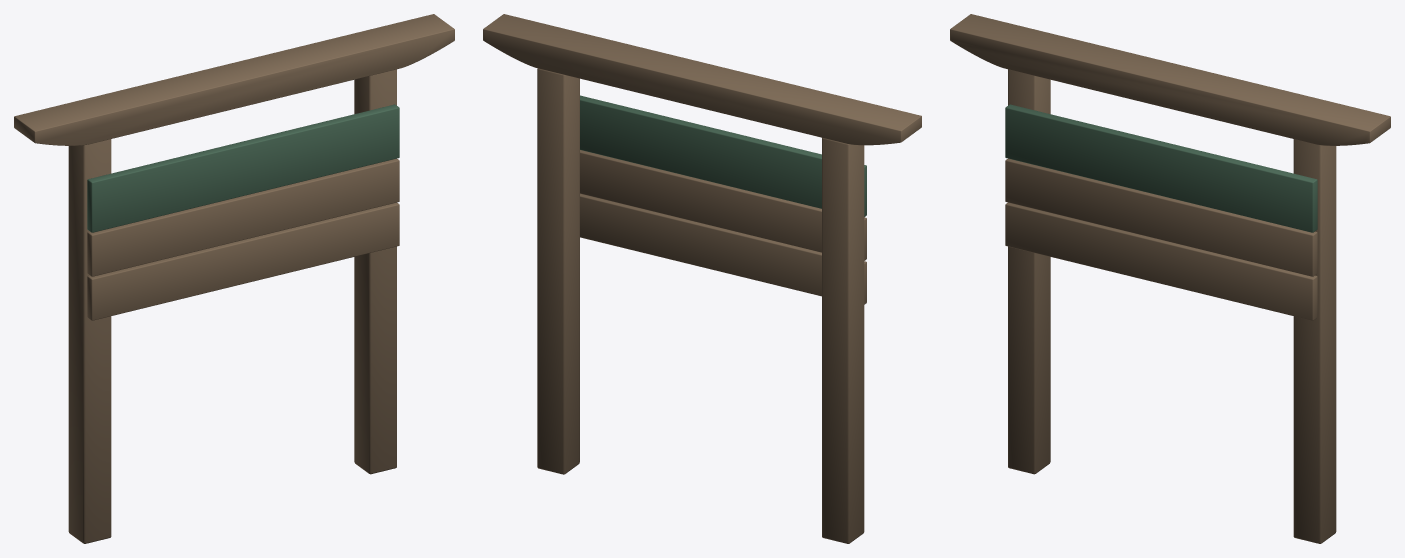
File: trailhead_sign.glb
The picture shows the model from 3 angles, left to right: view 1: azimuth 30°, elevation 25°; view 2: azimuth 150°, elevation 25°; view 3: azimuth 330°, elevation 25°; orthographic projection.
Visible parts, largest first — view 1: g_signpost, g_signbrown, g_signgreen; view 2: g_signpost, g_signbrown, g_signgreen; view 3: g_signpost, g_signbrown, g_signgreen.
Part boxes in pixels (bbox=[...]): g_signpost: bbox=[14, 14, 454, 543]; g_signbrown: bbox=[87, 158, 399, 320]; g_signgreen: bbox=[87, 104, 399, 232]; g_signpost: bbox=[483, 14, 921, 543]; g_signbrown: bbox=[580, 150, 866, 304]; g_signgreen: bbox=[580, 95, 866, 216]; g_signpost: bbox=[950, 14, 1390, 543]; g_signbrown: bbox=[1005, 158, 1317, 320]; g_signgreen: bbox=[1005, 104, 1317, 232].
Size of the model in its own units: 3 by 2.93 by 0.272.
